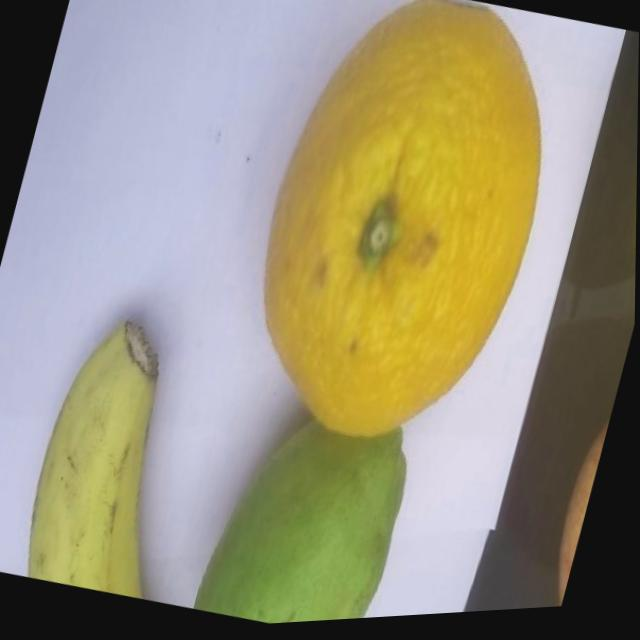Banana: (15, 305, 214, 606)
Orange: (221, 0, 588, 477)
